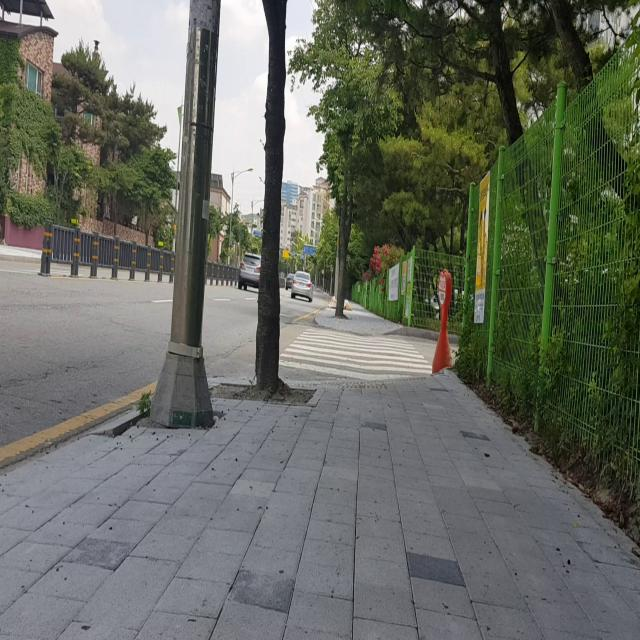횡단보도: (278, 327, 433, 381)
